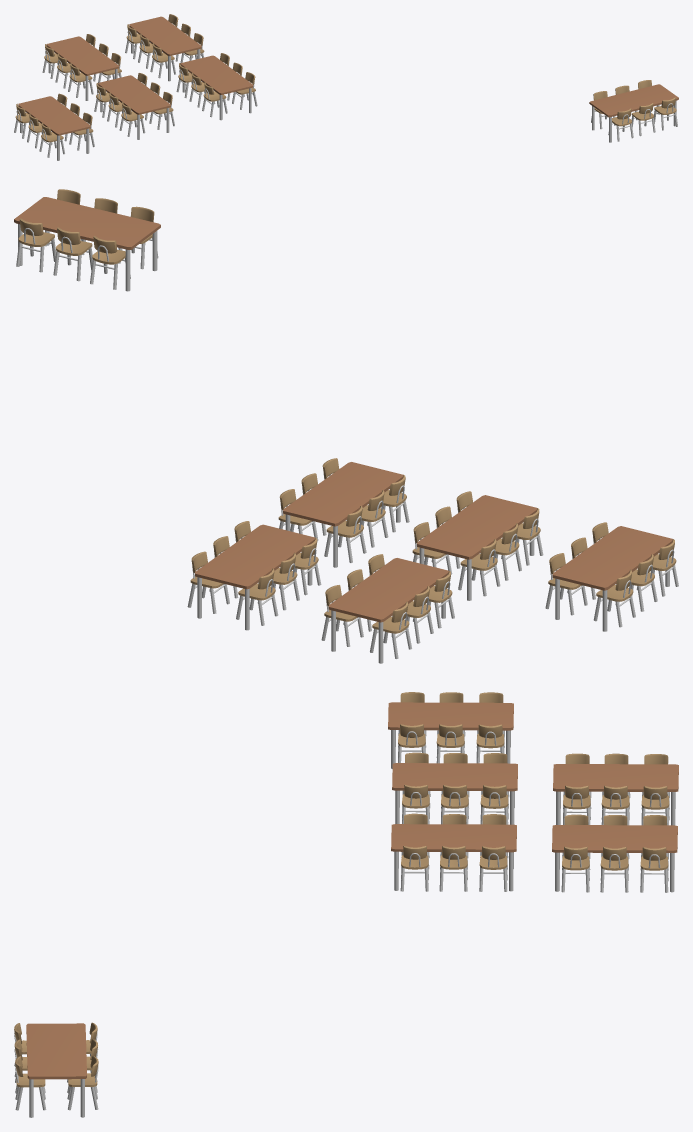
3 renders of one model, top to bottom at view 1: azimuth 30°, elevation 25°; view 2: azimuth 150°, elevation 25°; view 3: azimuth 270°, elevation 25°, orthographic. The views are drawn at different scales.
Visible parts, largest first — view 1: Tischgruppe 6er.006; view 2: Tischgruppe 6er.006; view 3: Tischgruppe 6er.006.
Part boxes in pixels (x1,y1,x2,y2): Tischgruppe 6er.006: (14,14,678,160); Tischgruppe 6er.006: (14,189,678,663); Tischgruppe 6er.006: (14,692,678,1117).
Size of the model in its own units: 19.65 by 1.18 by 14.56.
Materials: 1 (1 with a texture image).
